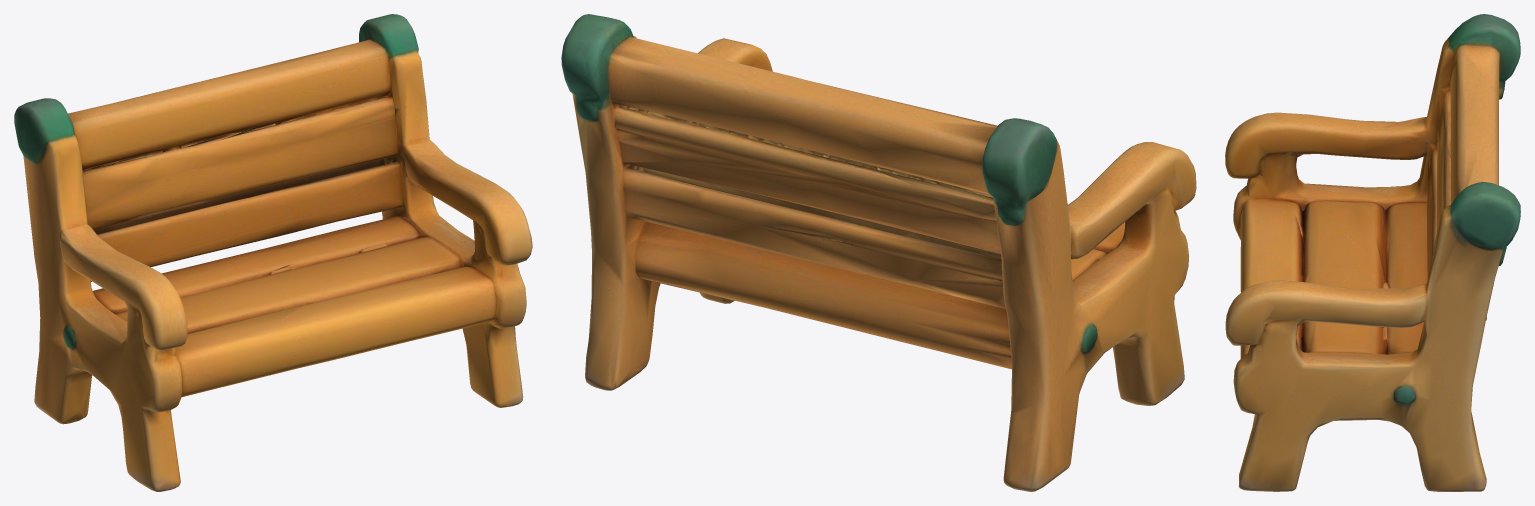
The model's file is prop-bench.glb.
3 views of the same model, side by side, from view 1: azimuth 30°, elevation 25°; view 2: azimuth 150°, elevation 25°; view 3: azimuth 270°, elevation 25° (orthographic). The views are drawn at different scales.
Parts seen in each view (by area): view 1: Mesh_0; view 2: Mesh_0; view 3: Mesh_0.
Boxes of the visible parts, x1=… form: Mesh_0: x1=14, y1=14, x2=532, y2=491; Mesh_0: x1=561, y1=14, x2=1196, y2=491; Mesh_0: x1=1225, y1=14, x2=1520, y2=491.
Size of the model in its own units: 2 by 1.53 by 1.35.
Materials: 1 (1 with a texture image).
